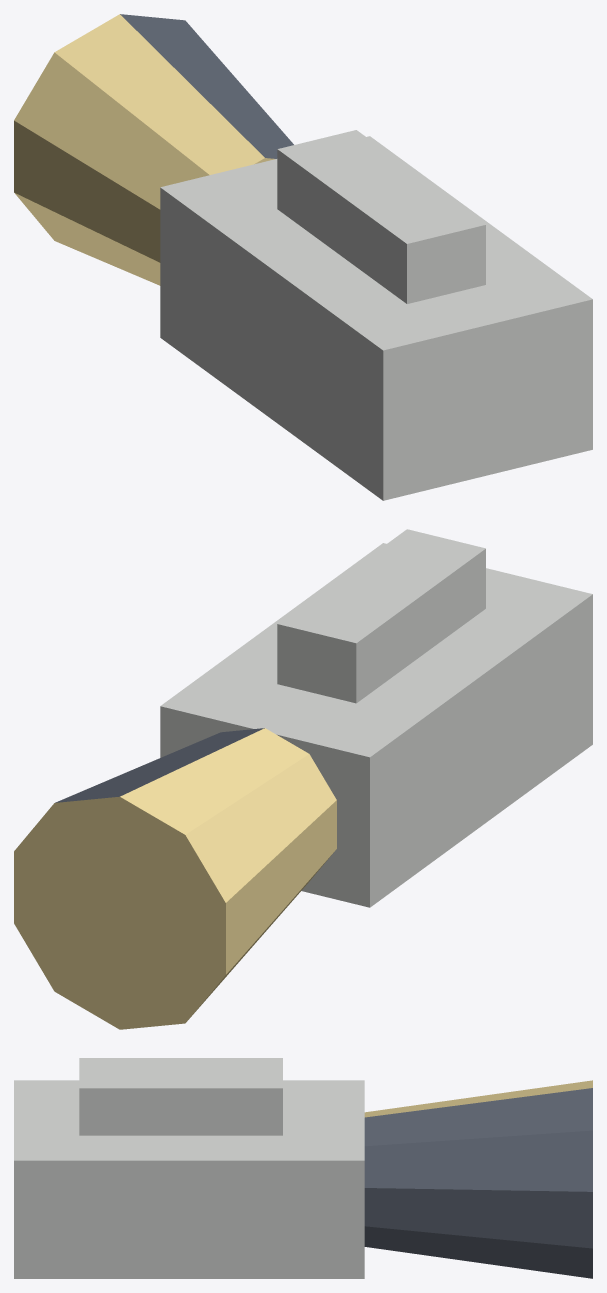
The model's file is PatchCordPlug.fbx.
3 renders of one model, top to bottom at view 1: azimuth 30°, elevation 25°; view 2: azimuth 150°, elevation 25°; view 3: azimuth 270°, elevation 25°, orthographic. The views are drawn at different scales.
Parts seen in each view (by area): view 1: PatchCordPlug; view 2: PatchCordPlug; view 3: PatchCordPlug.
Part boxes in pixels (x1,y1,x2,y2): PatchCordPlug: (14, 14, 592, 500); PatchCordPlug: (14, 529, 592, 1029); PatchCordPlug: (14, 1058, 592, 1278).
Bounding box in the file's own units: 1.18 × 1.34 × 3.55.
